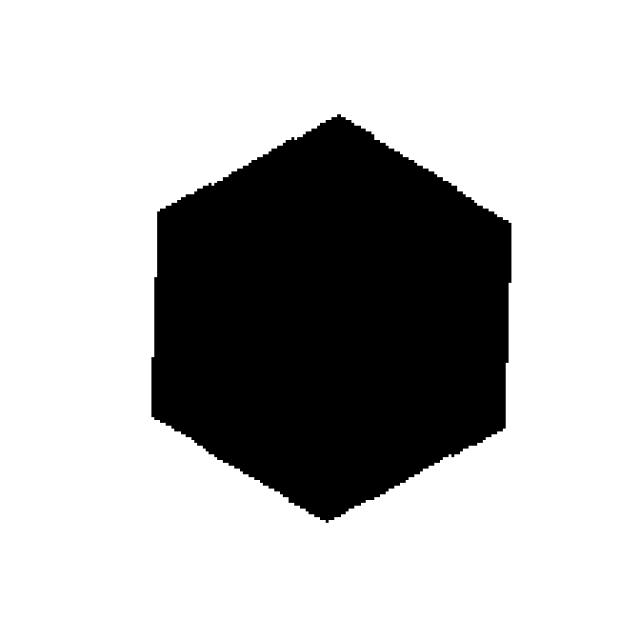Hexagon: (89, 87, 556, 560)
